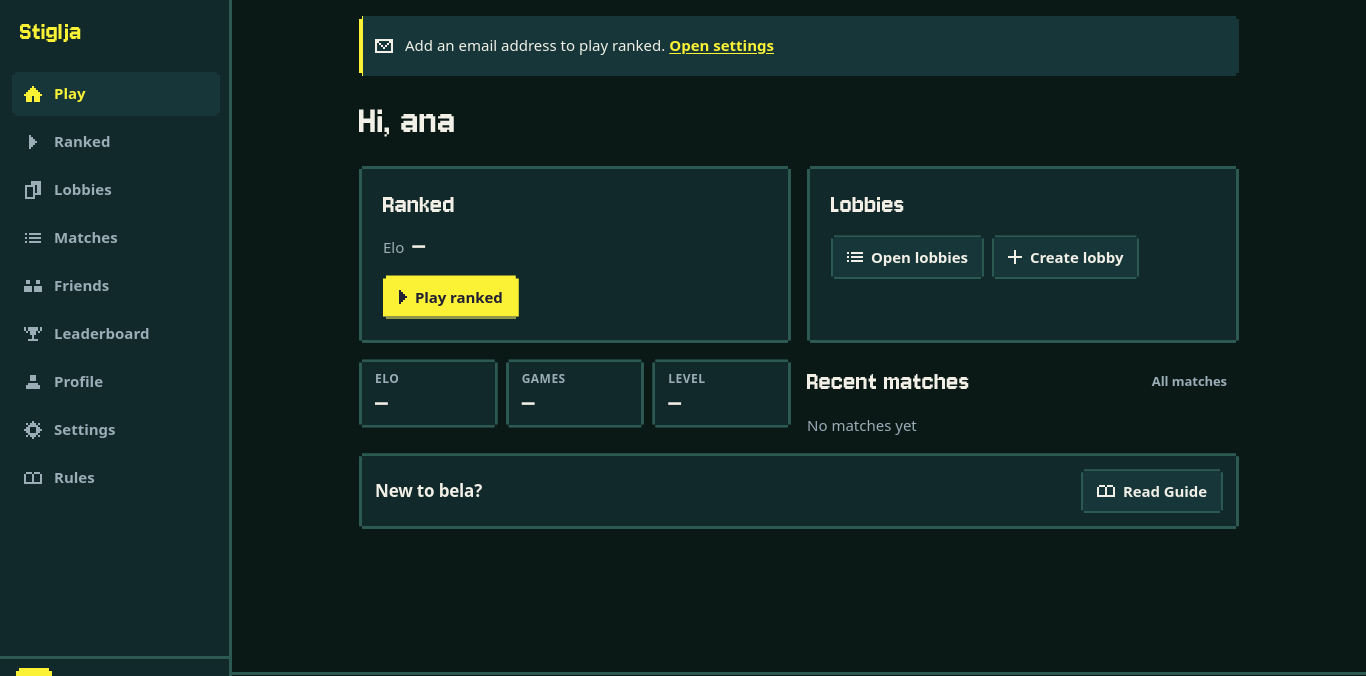
Rules (R-41) › "Read Guide" on the dashboard opens the rules
Click the button "Read Guide": (1152, 491) 1081,469 -> 1223,513
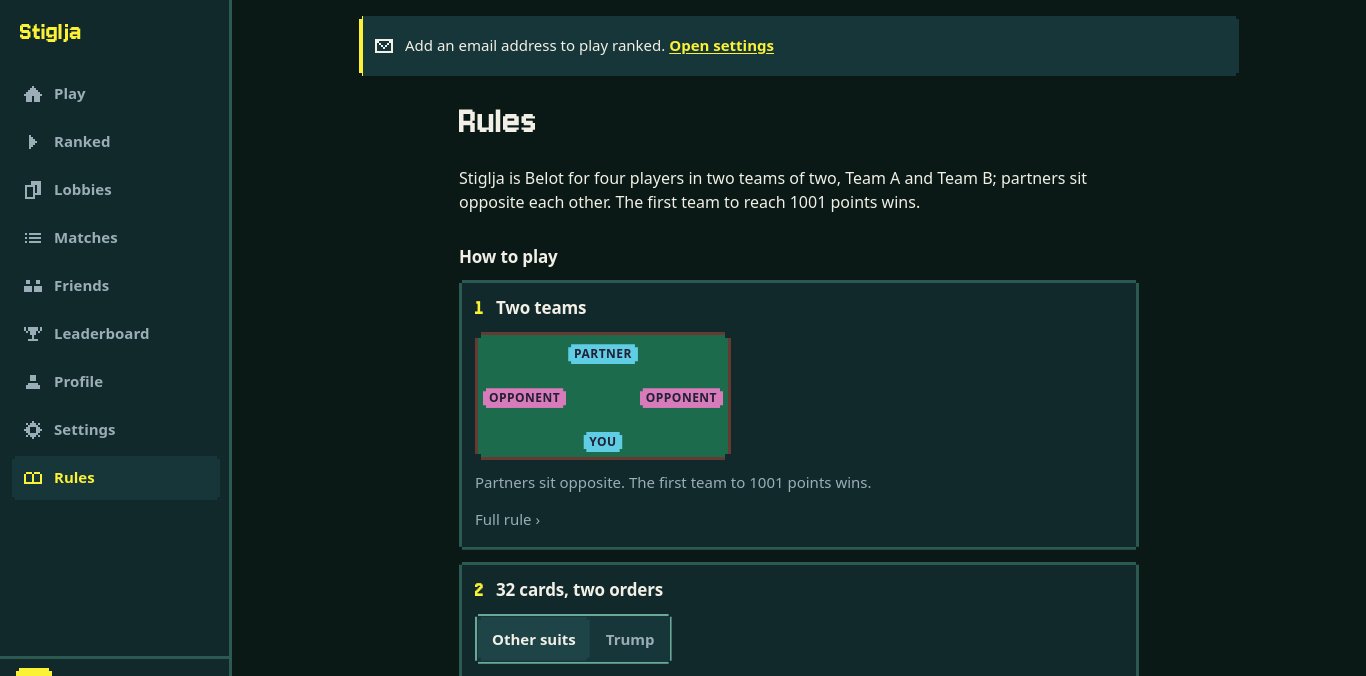
expect the heading "Rules" is shown: met, box 459,100 -> 538,142
